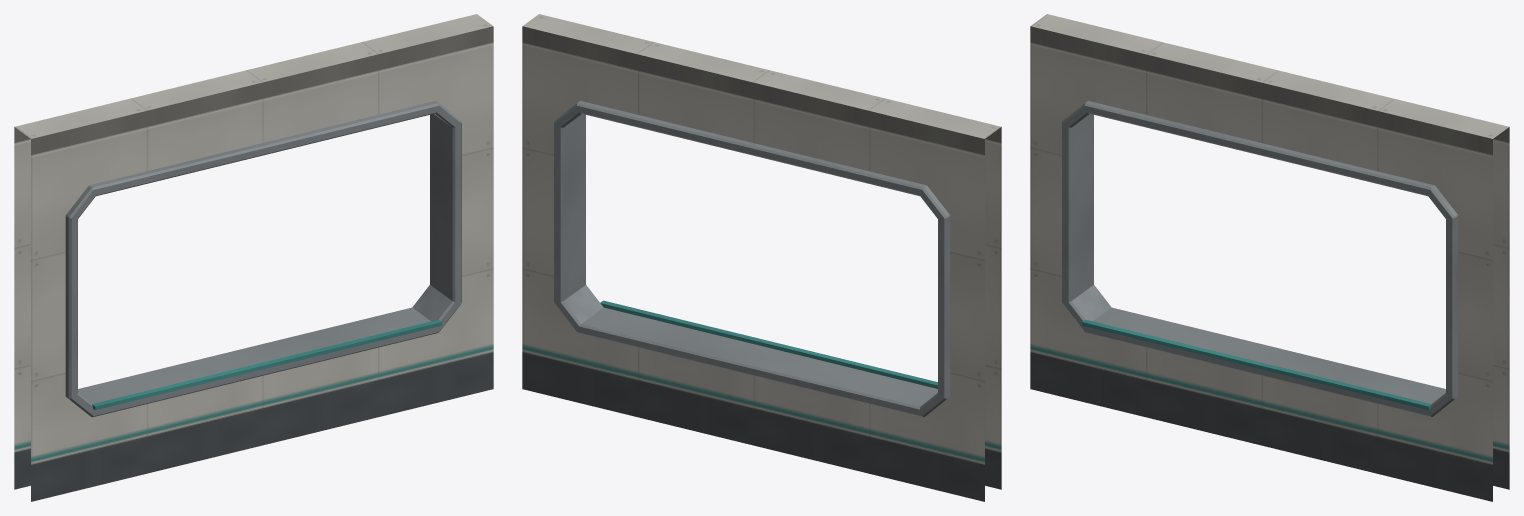
File: wall_ss_window_wide.fbx
3 views of the same model, side by side, from view 1: azimuth 30°, elevation 25°; view 2: azimuth 150°, elevation 25°; view 3: azimuth 330°, elevation 25° (orthographic).
Parts seen in each view (by area): view 1: wall_ss_window_wide; view 2: wall_ss_window_wide; view 3: wall_ss_window_wide.
Part boxes in pixels (x1,y1,x2,y2): wall_ss_window_wide: (14, 14, 493, 501); wall_ss_window_wide: (522, 14, 1001, 501); wall_ss_window_wide: (1030, 14, 1509, 501).
Size of the model in its own units: 4 by 3 by 0.405.
Materials: 1 (1 with a texture image).
